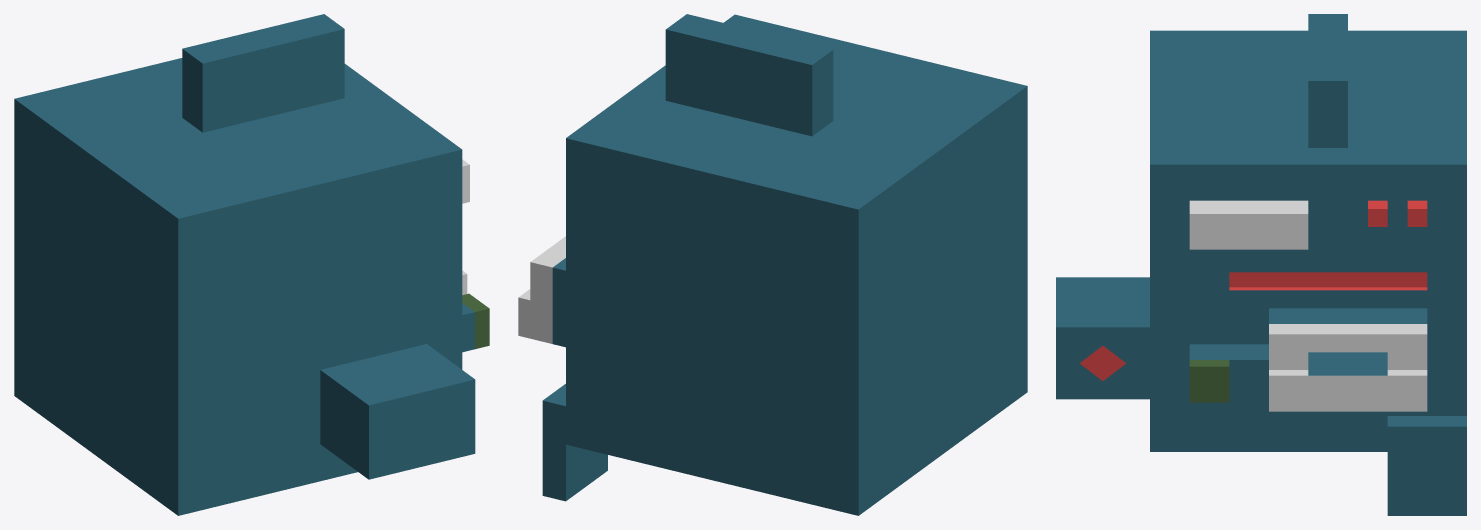
Rendered from MISC3.glb.
3 views of the same model, side by side, from view 1: azimuth 30°, elevation 25°; view 2: azimuth 150°, elevation 25°; view 3: azimuth 270°, elevation 25° (orthographic). The views are drawn at different scales.
Parts seen in each view (by area): view 1: Cube; view 2: Cube; view 3: Cube.
Boxes of the visible parts, bbox=[...] form: Cube: bbox=[14, 14, 489, 515]; Cube: bbox=[518, 14, 1027, 515]; Cube: bbox=[1056, 14, 1466, 515].
Bounding box in the file's own units: 2.47 × 2.84 × 2.59.
